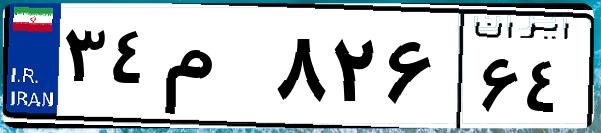2: (330, 28, 385, 110)
3: (57, 26, 110, 100)
4: (525, 38, 570, 115), (110, 28, 158, 98)
6: (385, 28, 445, 110), (475, 38, 525, 113)
8: (270, 28, 330, 110)
م: (158, 20, 270, 120)
